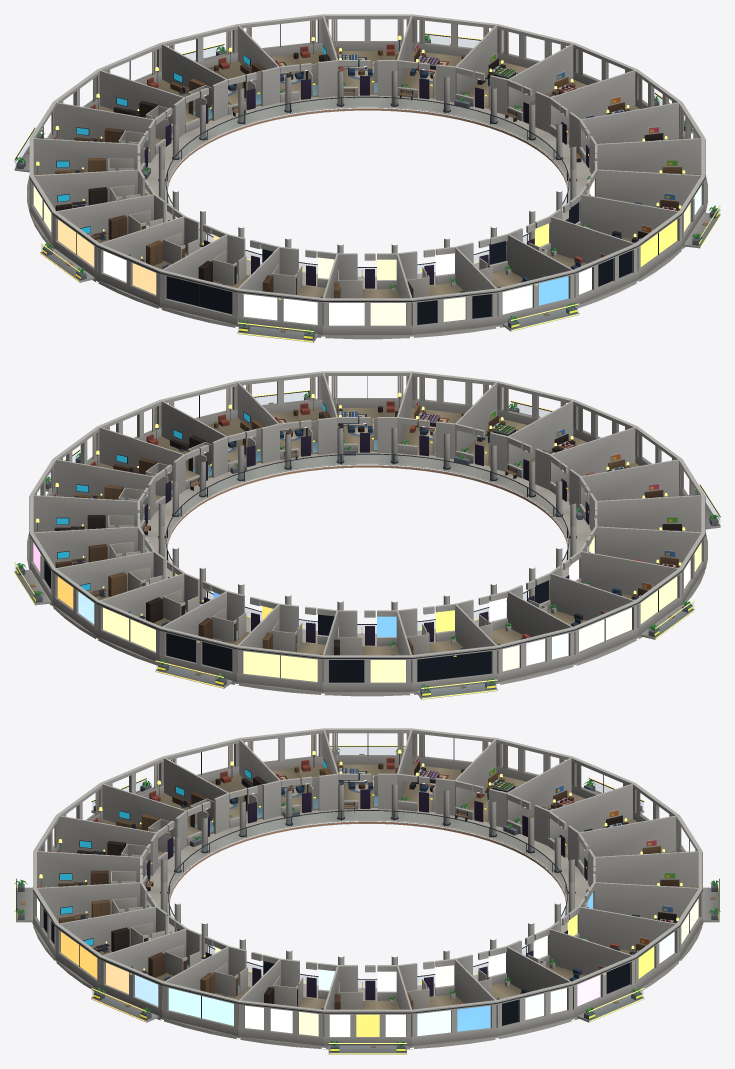
Rendered from dome_floor3.glb.
The picture shows the model from 3 angles, top to bottom: view 1: azimuth 30°, elevation 25°; view 2: azimuth 150°, elevation 25°; view 3: azimuth 270°, elevation 25°; orthographic projection.
Visible parts, largest first — view 1: Struct_3, Shell_3, Lamps_3, Unit_3_23, Unit_3_0, Unit_3_10, Unit_3_1, Unit_3_22, Unit_3_2, Unit_3_9, Unit_3_11, Unit_3_21 (+15 smaller); view 2: Struct_3, Shell_3, Lamps_3, Unit_3_15, Unit_3_16, Unit_3_2, Unit_3_17, Unit_3_14, Unit_3_18, Unit_3_3, Unit_3_1, Unit_3_0 (+15 smaller); view 3: Struct_3, Shell_3, Lamps_3, Unit_3_7, Unit_3_8, Unit_3_18, Unit_3_6, Unit_3_9, Unit_3_10, Unit_3_19, Unit_3_17, Unit_3_5 (+15 smaller).
Boxes of the visible parts, x1,y1,x2,y2 form: Struct_3: (14, 14, 720, 342); Shell_3: (14, 24, 720, 342); Lamps_3: (36, 35, 685, 279); Unit_3_23: (589, 109, 701, 174); Unit_3_0: (559, 77, 678, 152); Unit_3_10: (33, 138, 138, 175); Unit_3_1: (514, 50, 635, 127); Unit_3_22: (596, 160, 701, 209); Unit_3_2: (460, 30, 573, 109); Unit_3_9: (36, 102, 153, 166); Unit_3_11: (33, 169, 140, 210); Unit_3_21: (580, 193, 679, 238); Struct_3: (14, 371, 720, 699); Shell_3: (14, 376, 720, 699); Lamps_3: (35, 392, 685, 636); Unit_3_15: (589, 466, 701, 531); Unit_3_16: (559, 434, 678, 508); Unit_3_2: (33, 495, 138, 532); Unit_3_17: (514, 407, 635, 484); Unit_3_14: (596, 517, 701, 566); Unit_3_18: (461, 387, 573, 466); Unit_3_3: (33, 526, 140, 567); Unit_3_1: (36, 459, 153, 523); Unit_3_0: (60, 427, 184, 501); Struct_3: (16, 728, 719, 1054); Shell_3: (14, 733, 720, 1054); Lamps_3: (39, 749, 682, 991); Unit_3_7: (587, 823, 698, 887); Unit_3_8: (558, 790, 676, 865); Unit_3_18: (37, 851, 140, 887); Unit_3_6: (594, 872, 698, 921); Unit_3_9: (515, 764, 632, 840); Unit_3_10: (461, 744, 571, 822); Unit_3_19: (37, 882, 142, 923); Unit_3_17: (39, 815, 156, 879); Unit_3_5: (578, 905, 676, 950).
Bounding box in the file's own units: 71.15 × 4.21 × 71.17.
